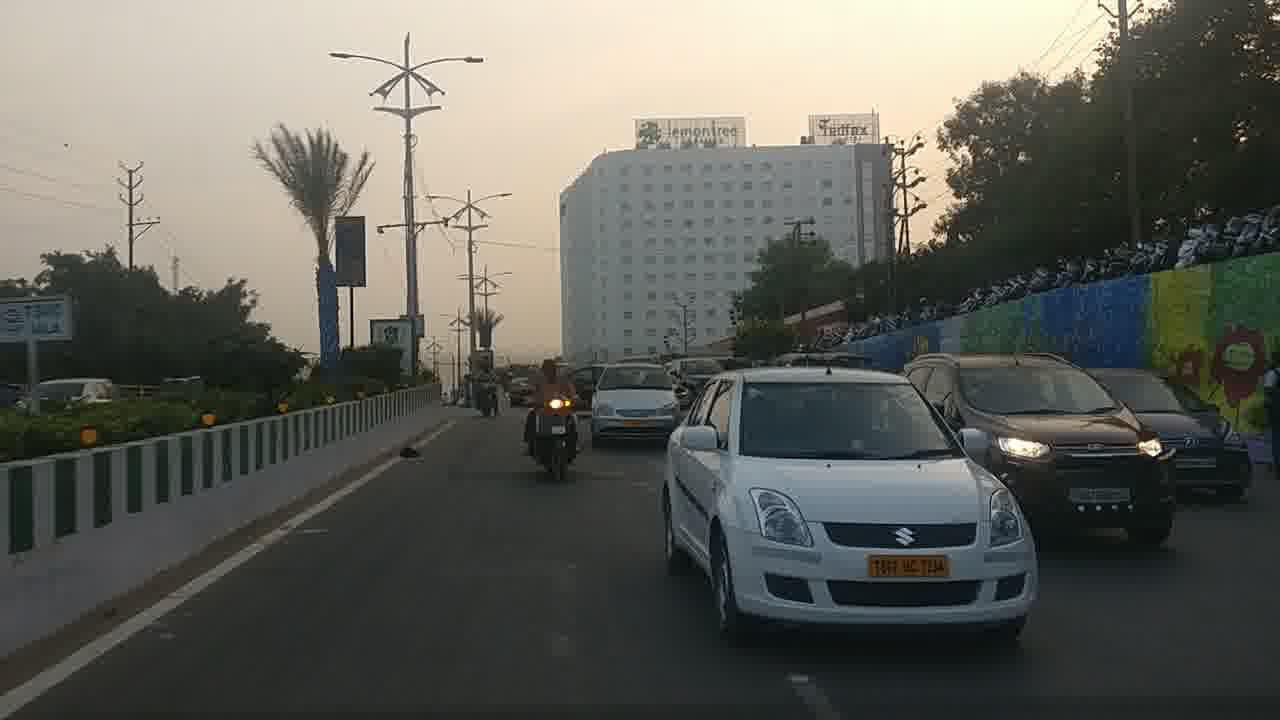swift desire: (662, 371, 1032, 626)
